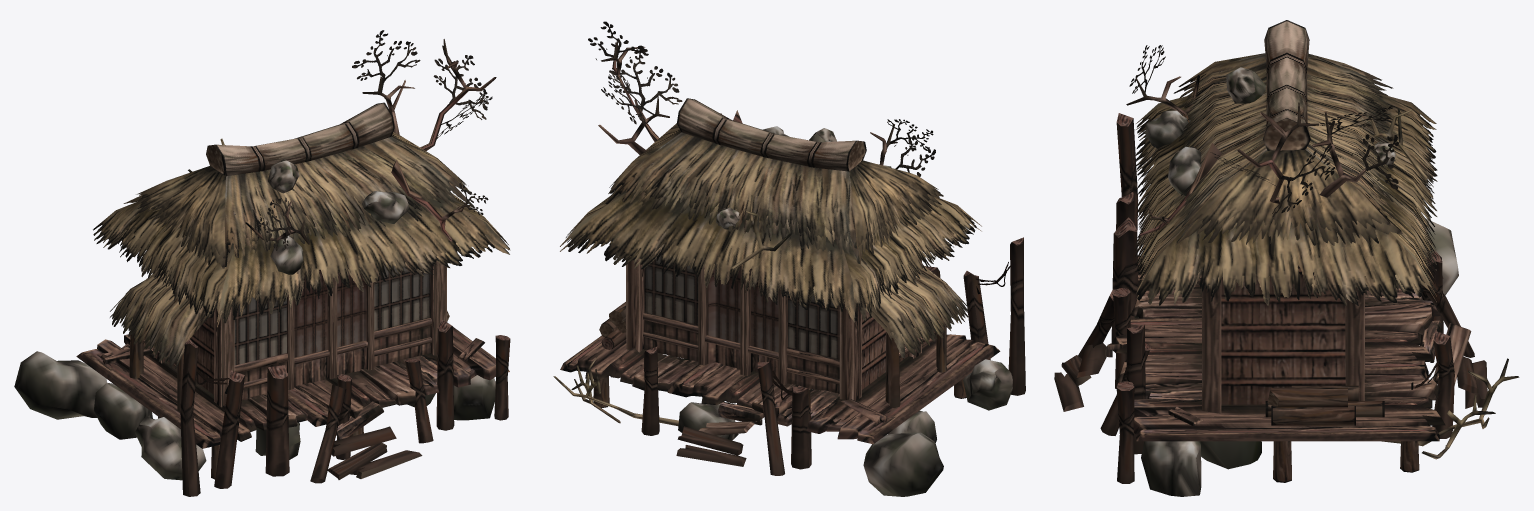
Rendered from PRP_HouseForestA.FBX.
3 views of the same model, side by side, from view 1: azimuth 30°, elevation 25°; view 2: azimuth 150°, elevation 25°; view 3: azimuth 270°, elevation 25° (orthographic). The views are drawn at different scales.
Visible parts, largest first — view 1: PRP_HouseForestA; view 2: PRP_HouseForestA; view 3: PRP_HouseForestA.
Boxes of the visible parts, x1,y1,x2,y2 form: PRP_HouseForestA: (14,30,510,496); PRP_HouseForestA: (553,21,1025,496); PRP_HouseForestA: (1054,20,1519,496).
Bounding box in the file's own units: 1125 × 862 × 845.
